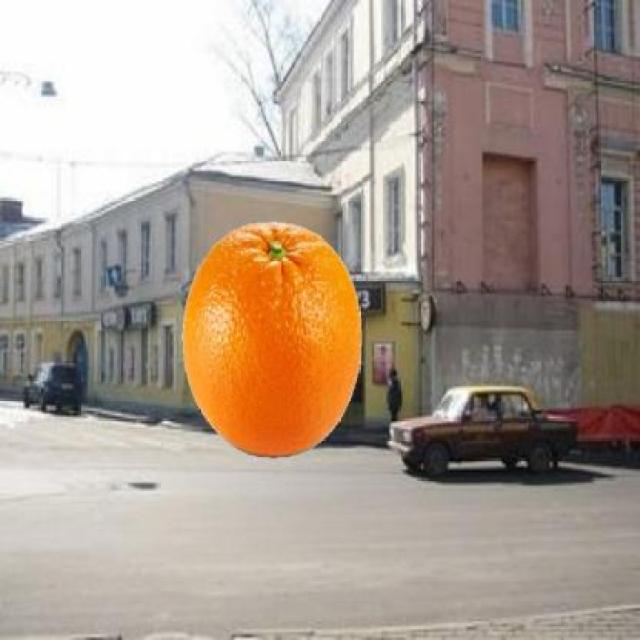Orange: (179, 218, 363, 457)
